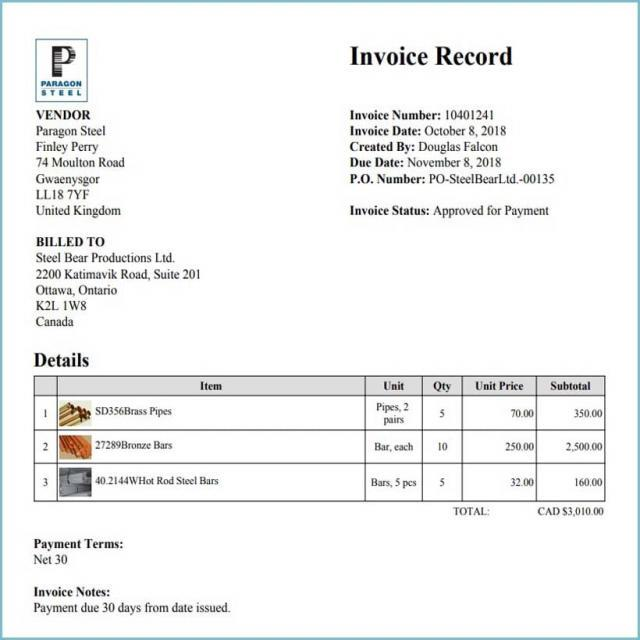customer_address: (31, 269, 209, 335)
customer_name: (32, 248, 178, 266)
due_date: (406, 157, 513, 169)
invoice_date: (424, 124, 511, 140)
invoice_number: (443, 105, 526, 120)
invoice_total: (521, 503, 621, 521)
item_description: (96, 399, 230, 495)
item_quantity: (431, 401, 453, 492)
item_total_price: (556, 400, 606, 491)
item_unit_price: (489, 396, 534, 490)
supplier_address: (31, 141, 136, 224)
supplier_name: (31, 124, 128, 139)
